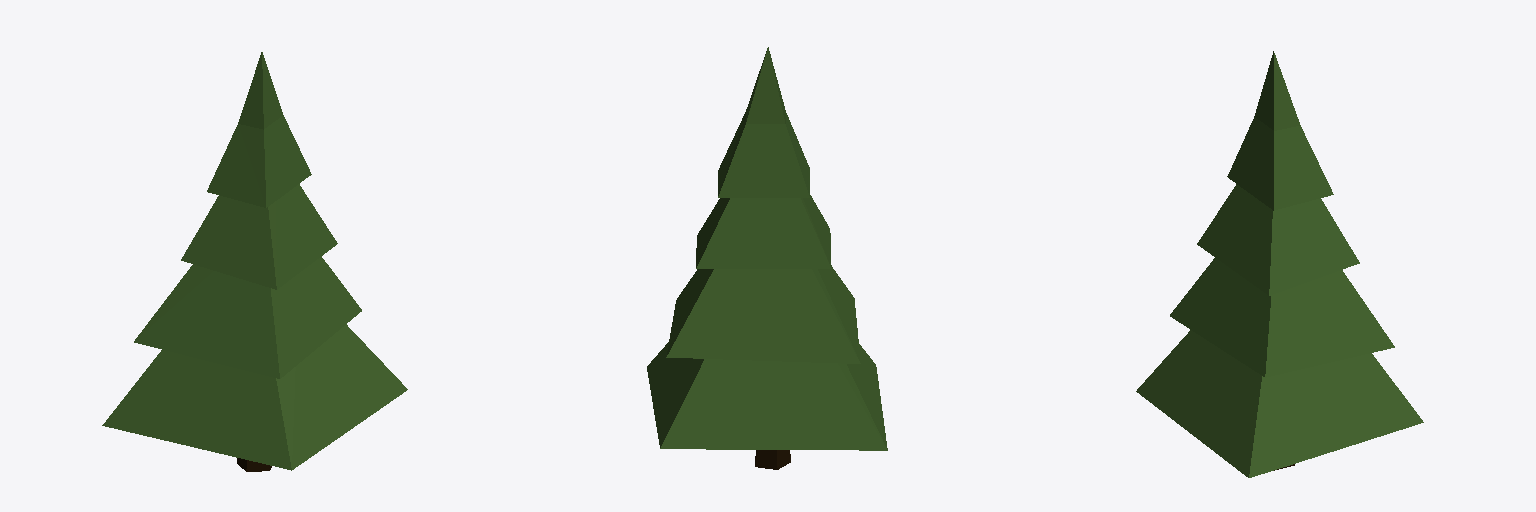
The model's file is tree2.obj.
3 views of the same model, side by side, from view 1: azimuth 30°, elevation 25°; view 2: azimuth 150°, elevation 25°; view 3: azimuth 270°, elevation 25° (orthographic).
Visible parts, largest first — view 1: pineTree; view 2: pineTree; view 3: pineTree.
Part boxes in pixels (bbox=[...]): pineTree: bbox=[102, 52, 407, 471]; pineTree: bbox=[647, 47, 887, 469]; pineTree: bbox=[1136, 51, 1423, 477].
Bounding box in the file's own units: 13.05 × 18.86 × 11.91.